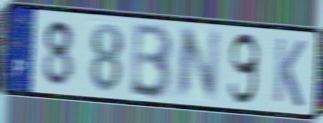8: (87, 19, 126, 96), (41, 18, 77, 89)
9: (227, 31, 261, 106)
B: (128, 22, 175, 102)
K: (271, 35, 308, 110)
N: (173, 26, 222, 103)
